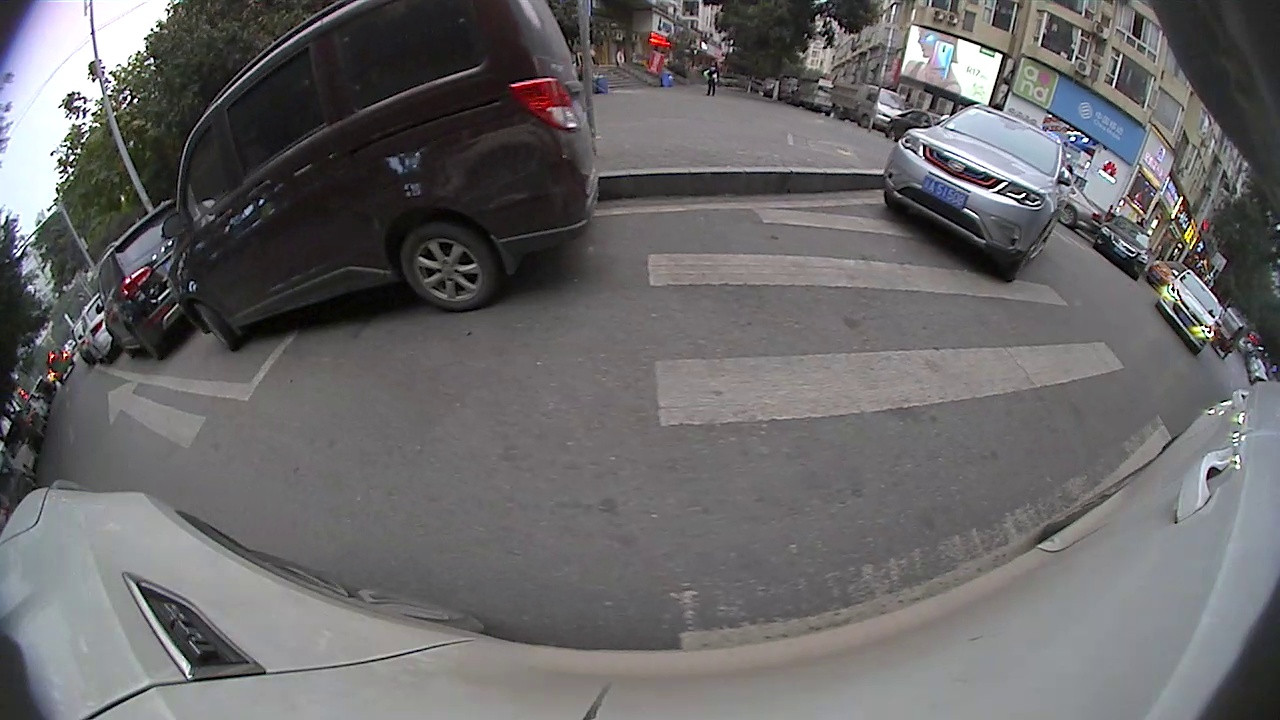car: (159, 1, 604, 353), (878, 99, 1076, 285), (97, 199, 195, 364), (1153, 267, 1225, 358), (1089, 211, 1157, 283)
rear: (398, 225, 500, 314)
